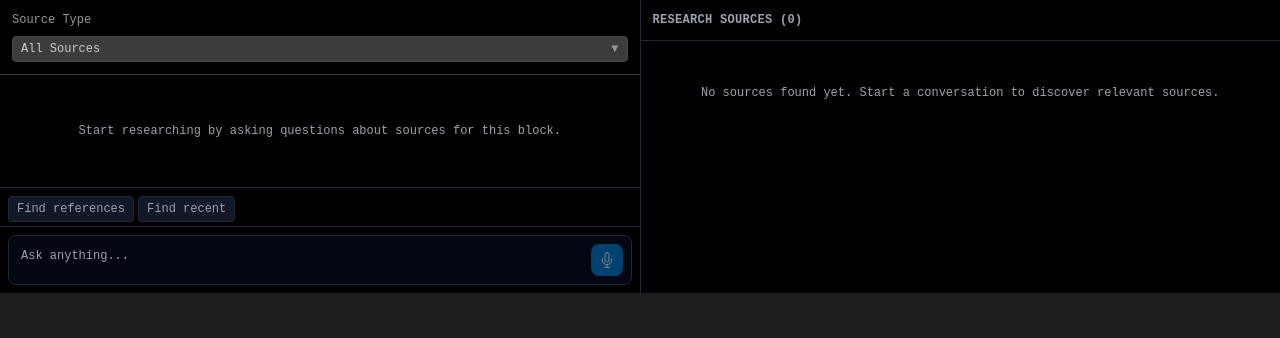
Scenario: ResearchTab › should show loading state while sending message
The image size is (1280, 338).
Type "Test question" into the text box with placeholder "Ask anything..." at (320, 256), box [9,236,630,276]
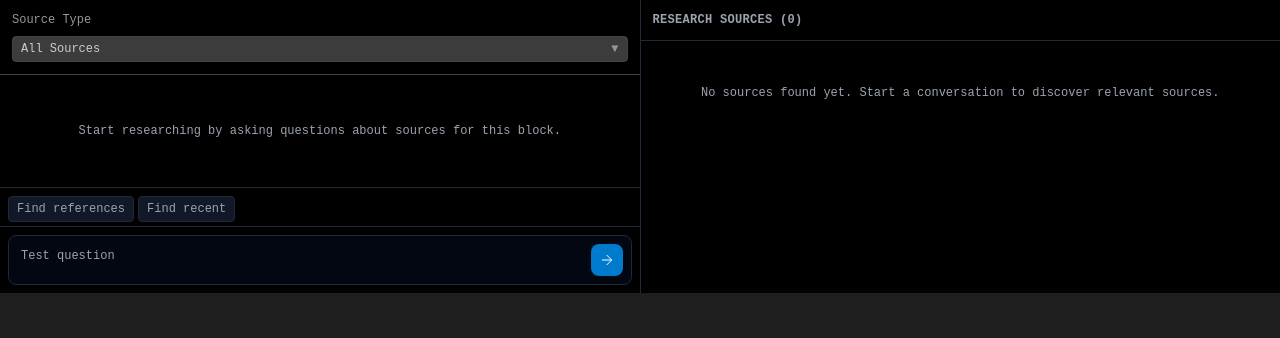
Click the button named "send" at (606, 260), box [590,244,622,276]
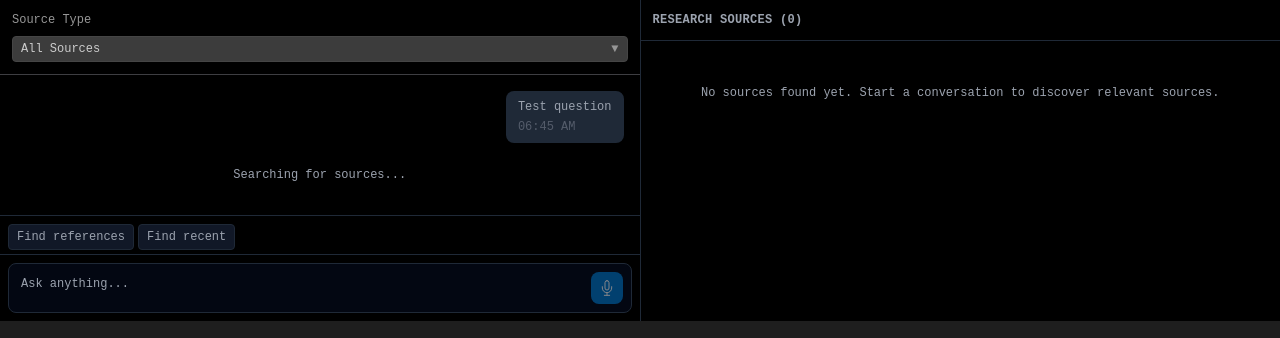
Check: the text "Searching for sources..." is shown, box [233,168,406,182]
